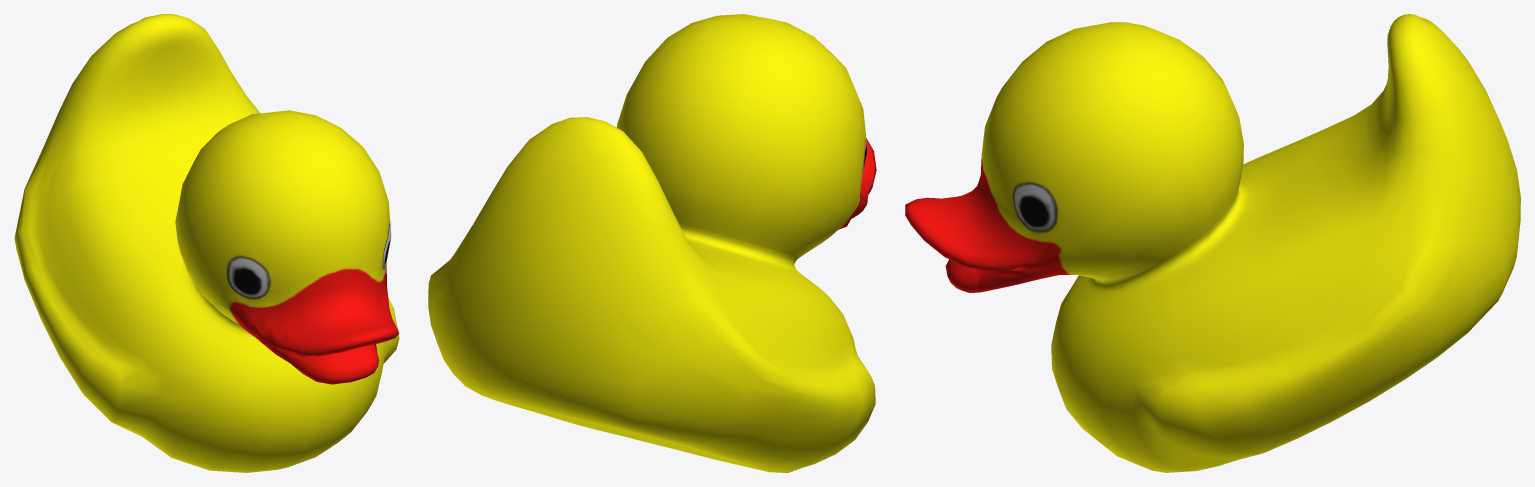
The model's file is suica-duck.glb.
3 renders of one model, left to right at view 1: azimuth 30°, elevation 25°; view 2: azimuth 150°, elevation 25°; view 3: azimuth 270°, elevation 25°, orthographic. The views are drawn at different scales.
Parts seen in each view (by area): view 1: Mesh; view 2: Mesh; view 3: Mesh.
Boxes of the visible parts, x1,y1,x2,y2 form: Mesh: (14, 14, 399, 472); Mesh: (428, 14, 876, 472); Mesh: (905, 14, 1520, 472).
Bounding box in the file's own units: 39.59 × 44.81 × 58.76.
1 material, 1 textured.
